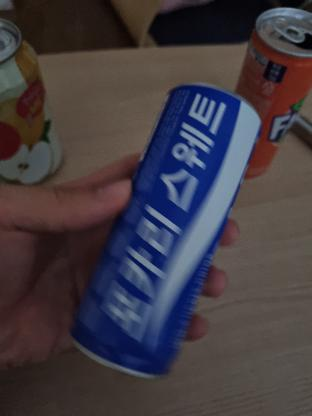Can: (80, 82, 266, 380)
